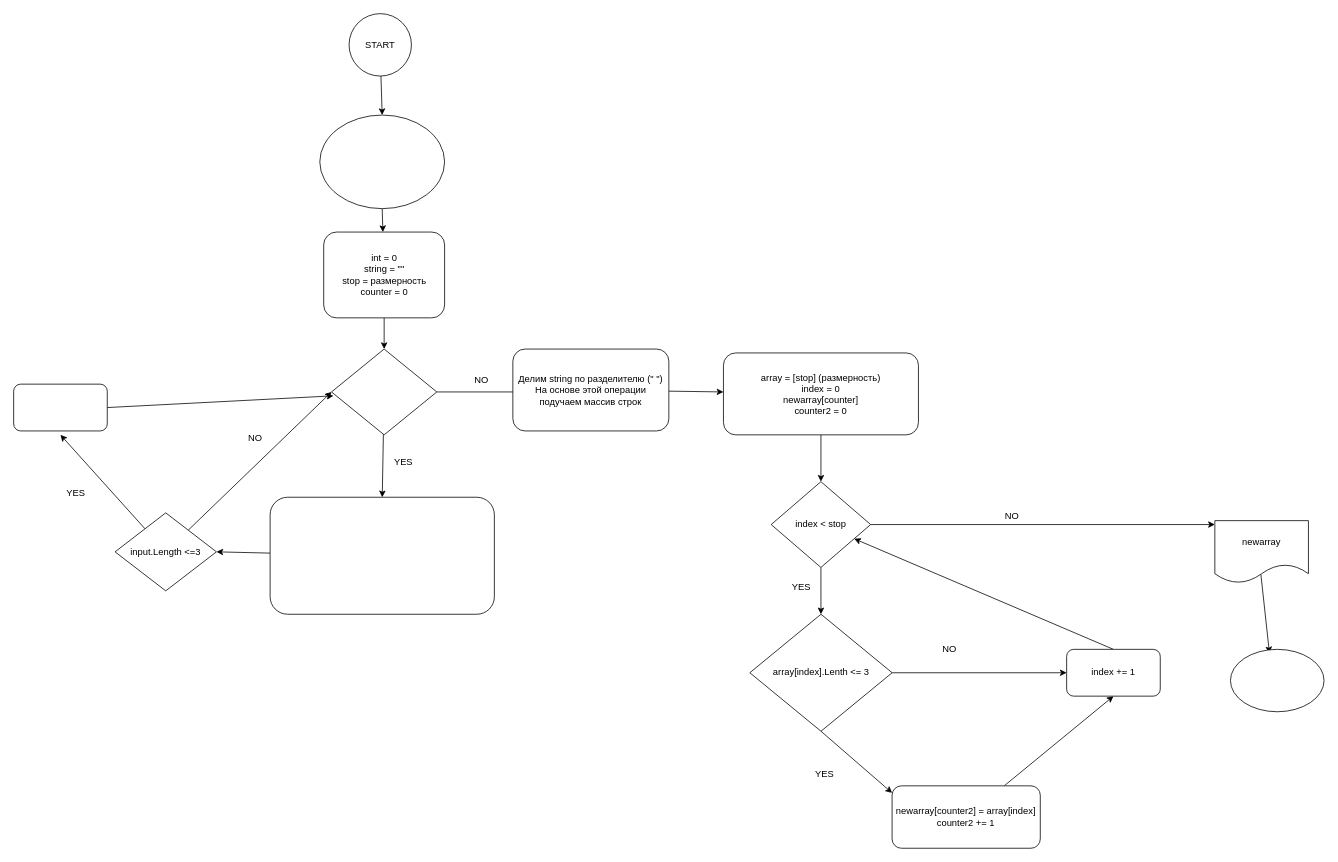
This 1338x862 diagram has some shape labels left out. The shapes that lost their labels are listed below. From the top down, each one's centre as x and y in pixels, then its label:
(x=382, y=161): Вводим размерность массива размерность = пользовательский ввод (число)
(x=60, y=407): counter += 1
(x=384, y=391): int < stop
(x=381, y=555): input = пользовательский ввод строки string = string + input + " " int += 1
(x=1277, y=680): END
